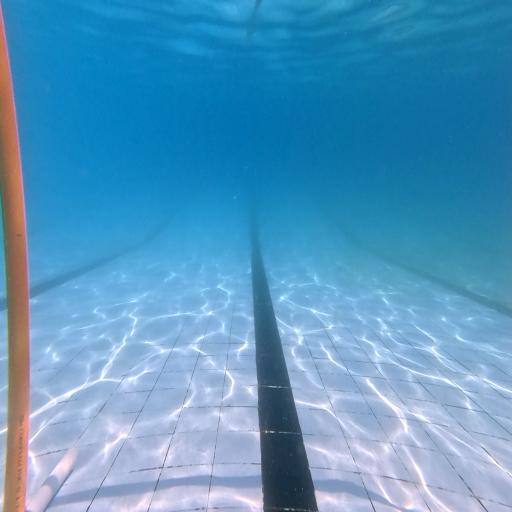gate: (0, 2, 77, 511)
